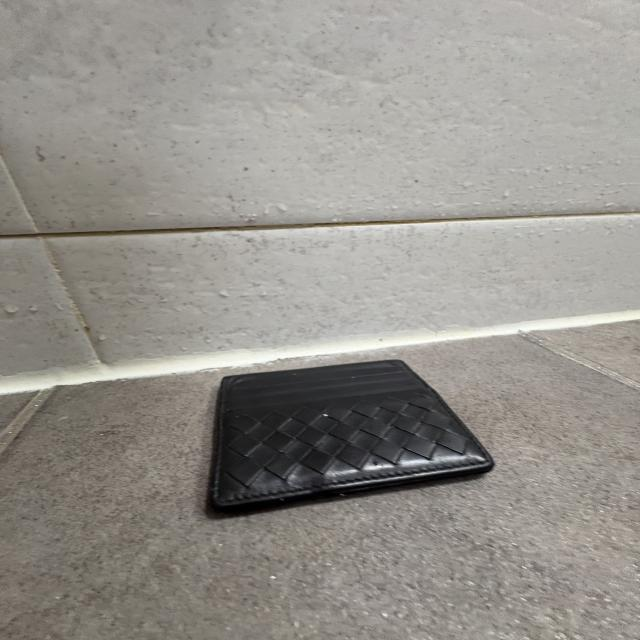wallet: (205, 358, 496, 522)
